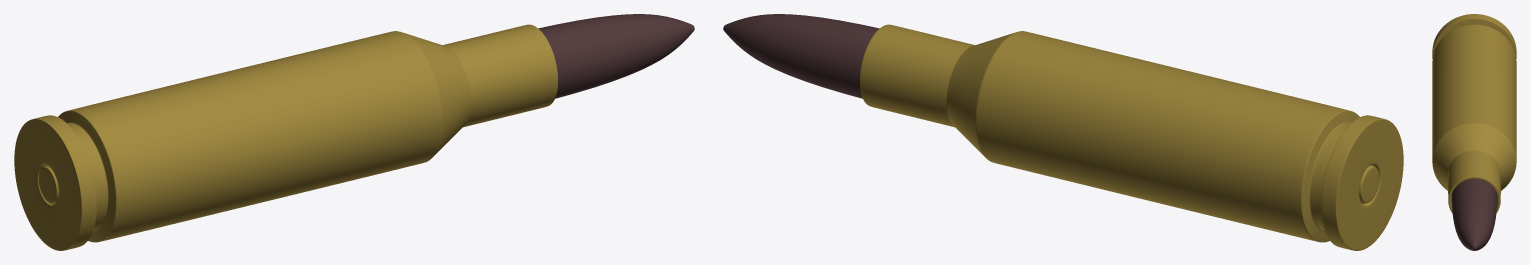
File: MP7_BulletFull.fbx
3 renders of one model, left to right at view 1: azimuth 30°, elevation 25°; view 2: azimuth 150°, elevation 25°; view 3: azimuth 270°, elevation 25°, orthographic. The views are drawn at different scales.
Visible parts, largest first — view 1: Case, Bullet; view 2: Case, Bullet; view 3: Case, Bullet.
Boxes of the visible parts, x1,y1,x2,y2 form: Case: (14,24,557,250); Bullet: (538,14,694,98); Case: (860,24,1403,250); Bullet: (723,14,879,98); Case: (1432,14,1516,213); Bullet: (1451,179,1497,250).
Bounding box in the file's own units: 25.27 × 4.58 × 4.58.
